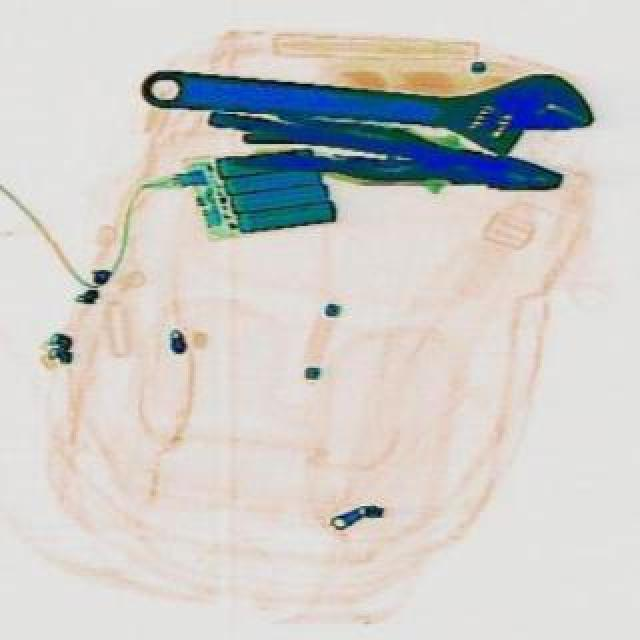scissors: (136, 44, 596, 160)
wrench: (236, 102, 564, 206)
